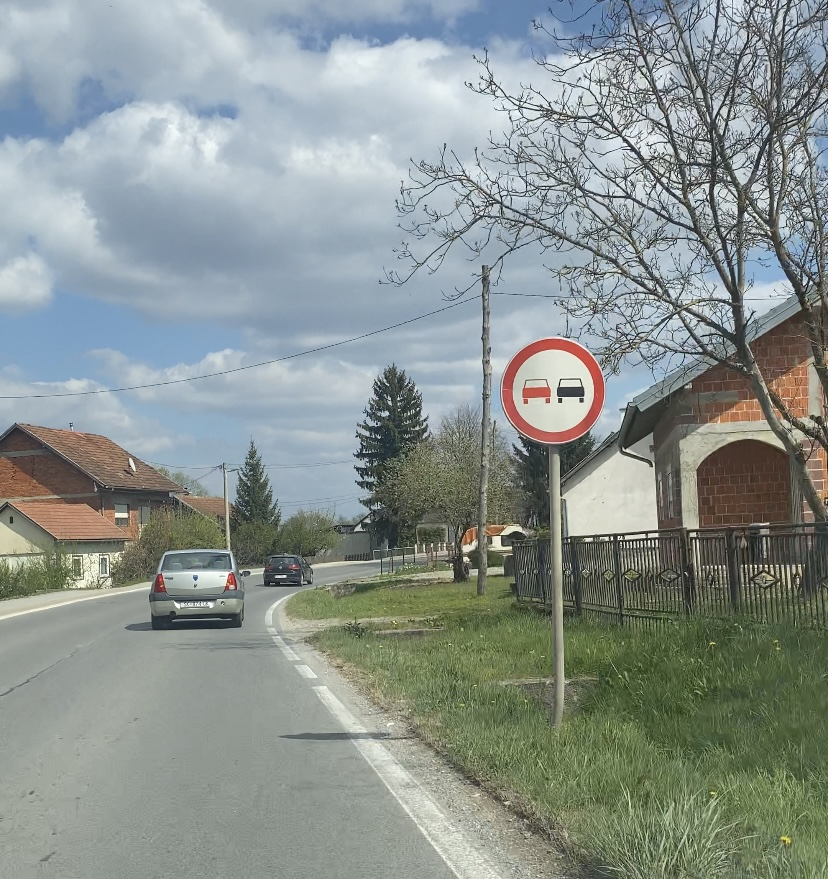Zabrana pretjecanja: (500, 336, 606, 444)
